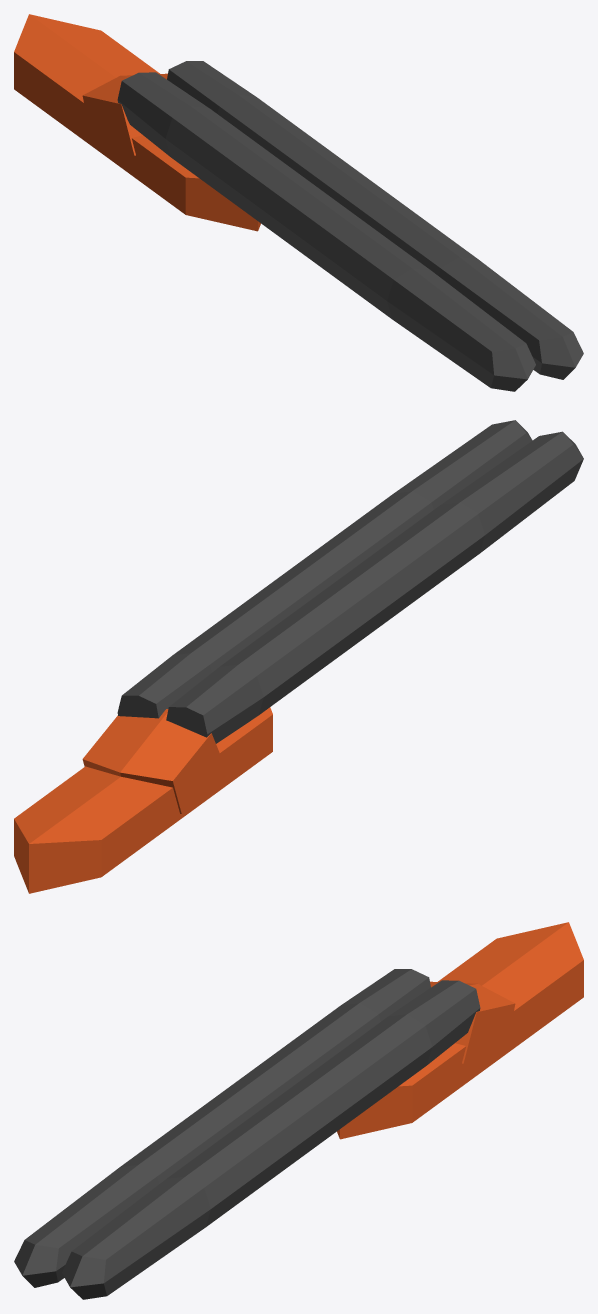
The model's file is gun.glb.
The picture shows the model from 3 angles, top to bottom: view 1: azimuth 30°, elevation 25°; view 2: azimuth 150°, elevation 25°; view 3: azimuth 330°, elevation 25°; orthographic projection.
Visible parts, largest first — view 1: Cylinder.001, Cylinder; view 2: Cylinder.001, Cylinder; view 3: Cylinder.001, Cylinder.
Part boxes in pixels (<box>): Cylinder.001: <box>117,61,583,391</box>; Cylinder: <box>14,14,260,231</box>; Cylinder.001: <box>117,420,583,743</box>; Cylinder: <box>14,707,272,893</box>; Cylinder.001: <box>14,969,480,1299</box>; Cylinder: <box>337,922,583,1139</box>.
Bounding box in the file's own units: 0.1472 × 0.1419 × 1.36.
